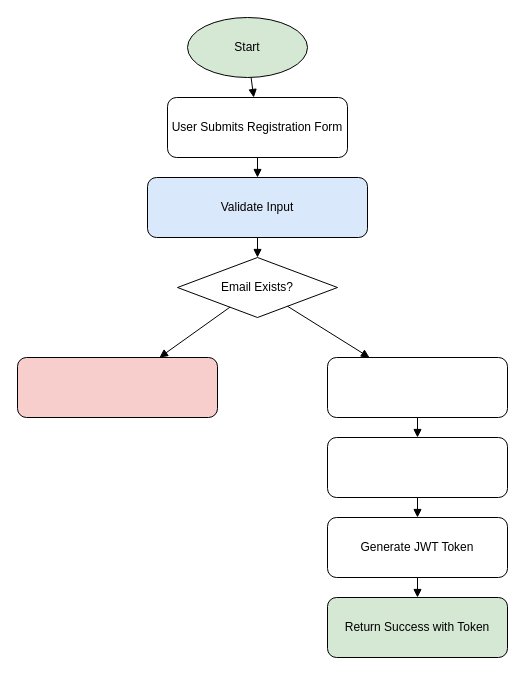
Image size: 525x675. Some labels were removed from this diagram. Here are the shapes that lost their labels. From the top down, the centre of each, then its label:
At (x=117, y=387): "Return Error: Email Taken".
At (x=417, y=387): "Hash Password".
At (x=417, y=467): "Save User to DB".
